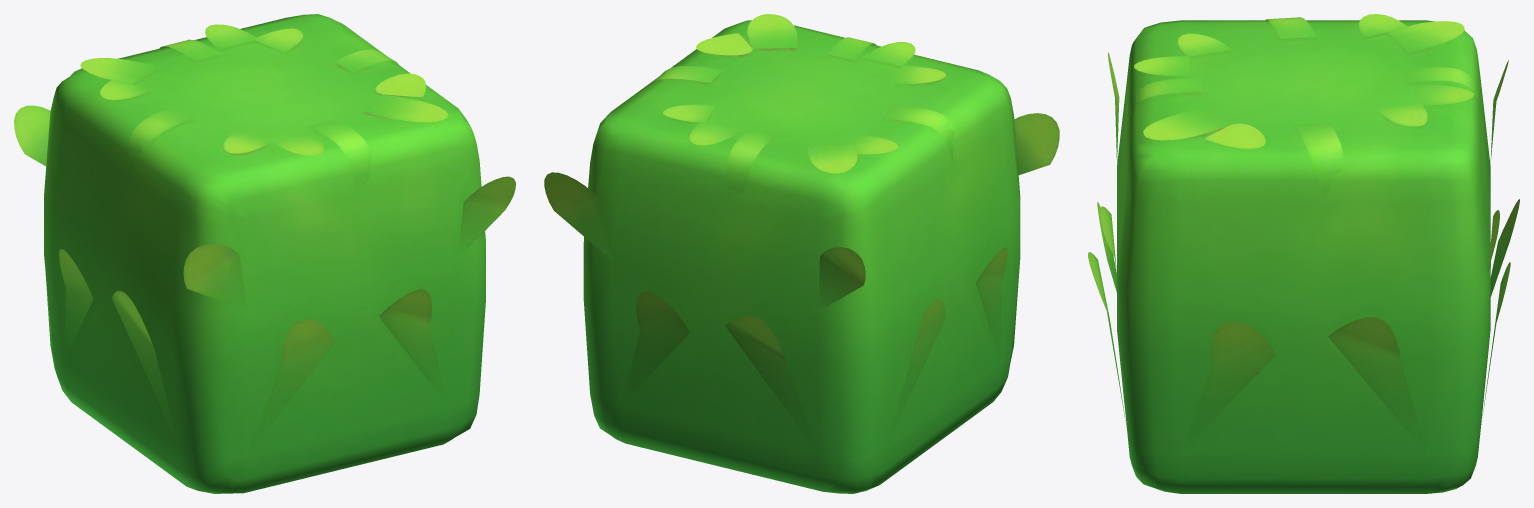
Rendered from bush.glb.
3 renders of one model, left to right at view 1: azimuth 30°, elevation 25°; view 2: azimuth 150°, elevation 25°; view 3: azimuth 270°, elevation 25°, orthographic. The views are drawn at different scales.
Parts seen in each view (by area): view 1: tripo_node_19a6f73d-3bec-482e-b462-4411946f2c44; view 2: tripo_node_19a6f73d-3bec-482e-b462-4411946f2c44; view 3: tripo_node_19a6f73d-3bec-482e-b462-4411946f2c44.
Part boxes in pixels (x1=…): tripo_node_19a6f73d-3bec-482e-b462-4411946f2c44: x1=14, y1=14, x2=515, y2=493; tripo_node_19a6f73d-3bec-482e-b462-4411946f2c44: x1=544, y1=14, x2=1059, y2=493; tripo_node_19a6f73d-3bec-482e-b462-4411946f2c44: x1=1088, y1=14, x2=1519, y2=493.
Size of the model in its own units: 1.47 by 1.34 by 1.5.
1 material, 1 textured.
